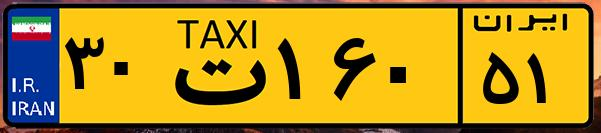0: (385, 28, 445, 110), (110, 28, 158, 98)
1: (270, 28, 330, 110), (525, 38, 570, 115)
3: (57, 26, 110, 100)
5: (475, 38, 525, 113)
6: (330, 28, 385, 110)
ت: (158, 12, 270, 120)
